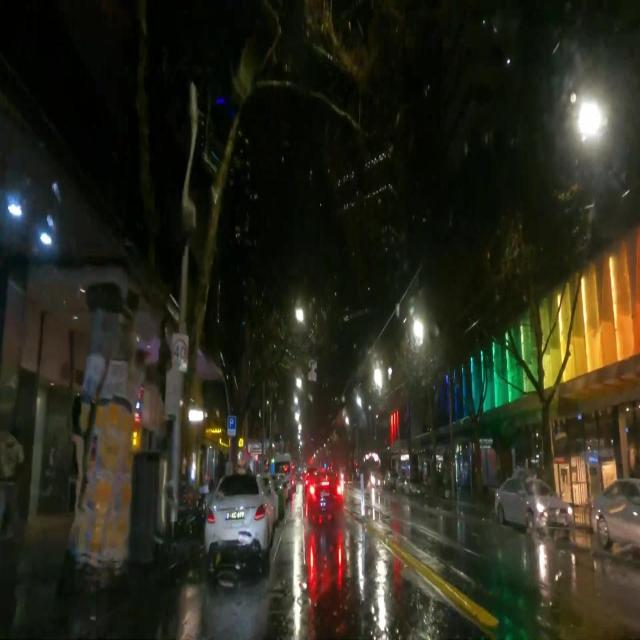Car: (204, 474, 273, 564), (492, 475, 571, 536)
